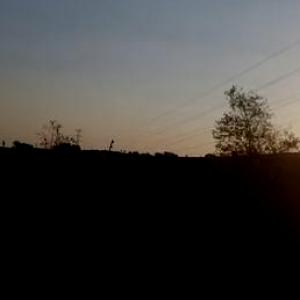follow: (104, 179, 168, 299)
